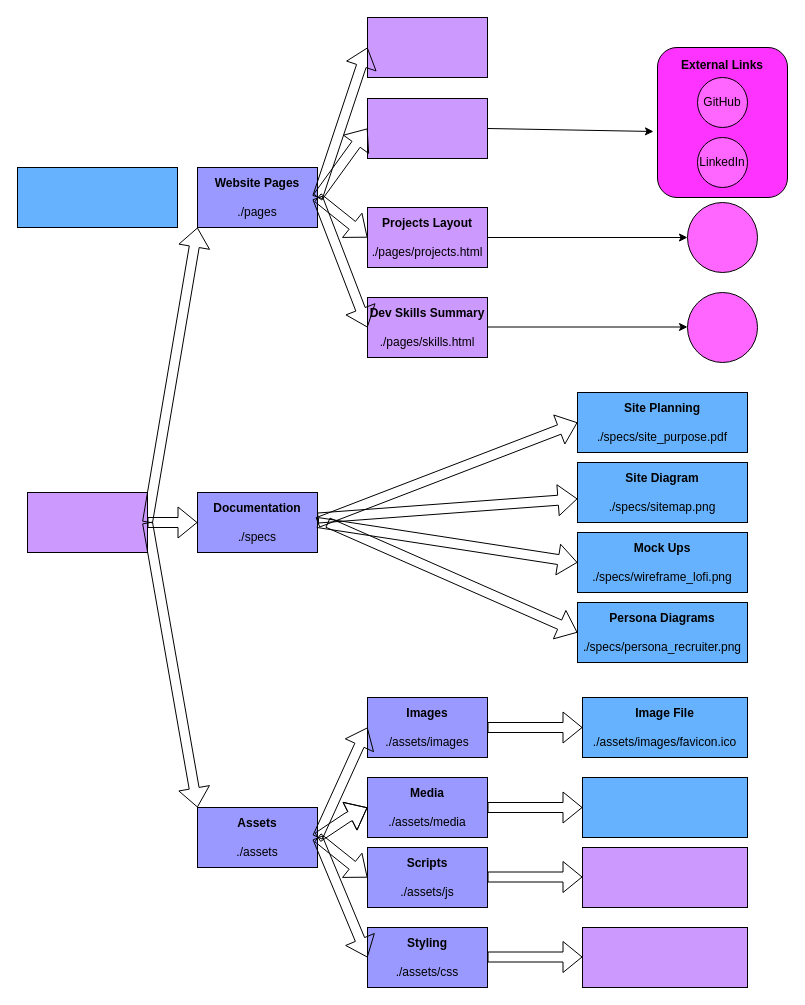
Image size: 805x1005. Some labels were removed from this diagram. Here are the shapes that lost their labels. From the top down, the centre of each, then its label:
At (x=427, y=47): "About + Bio ./pages/about.html".
At (x=427, y=128): "Contacting Me ./pages/contact.html".
At (x=97, y=197): "Crawler Info + XML Sitemap ./robots.txt".
At (x=722, y=237): "Project Panels".
At (x=722, y=327): "Skills/Tools Panels".
At (x=87, y=522): "Home Page ./index.html".
At (x=665, y=807): "Video File ./assets/media/video.mp4".
At (x=665, y=877): "Javascript File ./assets/scripts/script1.js".
At (x=665, y=957): "External Stylesheet File ./assets/css/sheet1.css".
